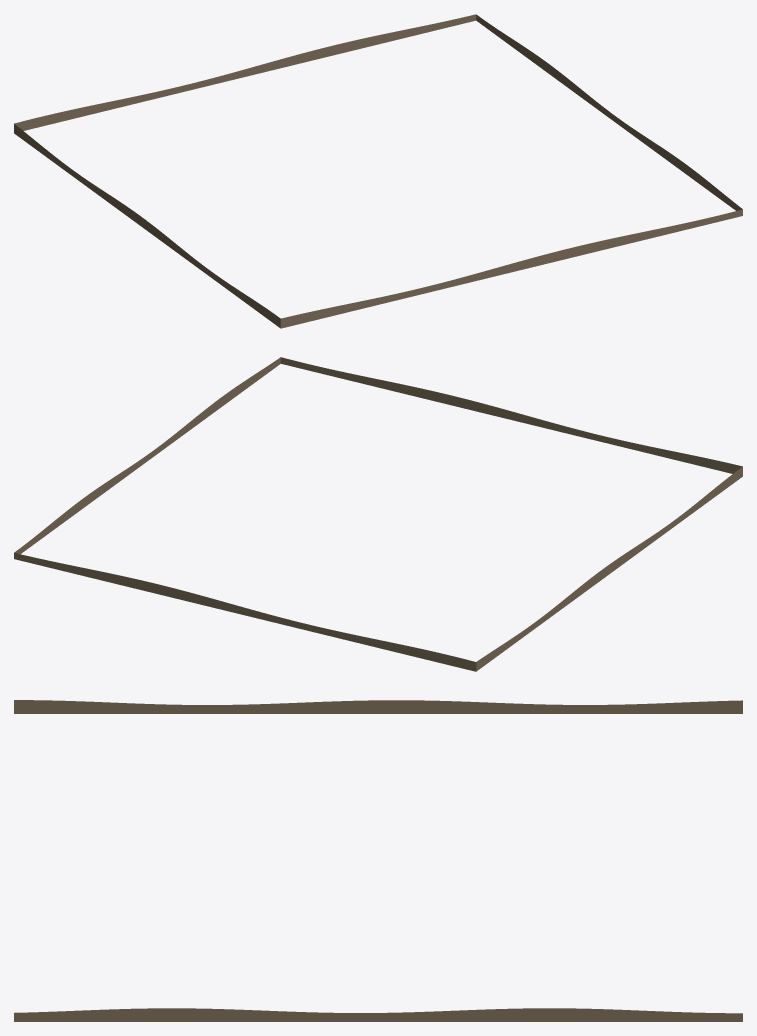
File: SM_EarthEdge.fbx
3 views of the same model, one above another, from view 1: azimuth 30°, elevation 25°; view 2: azimuth 150°, elevation 25°; view 3: azimuth 270°, elevation 25° (orthographic). The views are drawn at different scales.
Parts seen in each view (by area): view 1: SM_EarthEdge; view 2: SM_EarthEdge; view 3: SM_EarthEdge.
Boxes of the visible parts, left/top/right/bottom form: SM_EarthEdge: left=14, top=14, right=742, bottom=328; SM_EarthEdge: left=14, top=357, right=742, bottom=671; SM_EarthEdge: left=14, top=700, right=742, bottom=1021.
Bounding box in the file's own units: 10000 × 10000 × 208.
